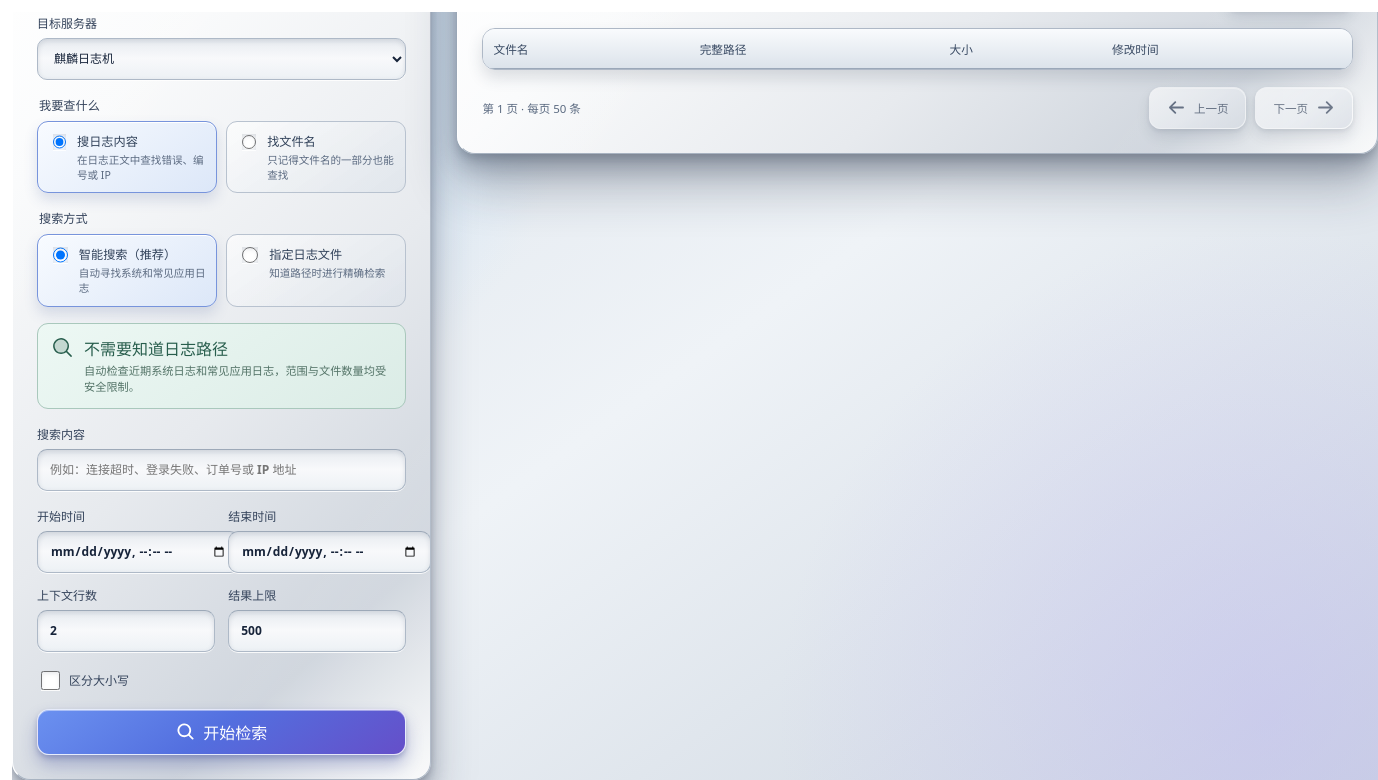
Test: LogSearchPage › derives a completed result count from the final page when the backend summary has no number
This screenshot has width=1378, height=780.
(page scrolled)
Type "ERROR" into the field labelled "搜索内容" at (222, 470), box [37,448,406,490]
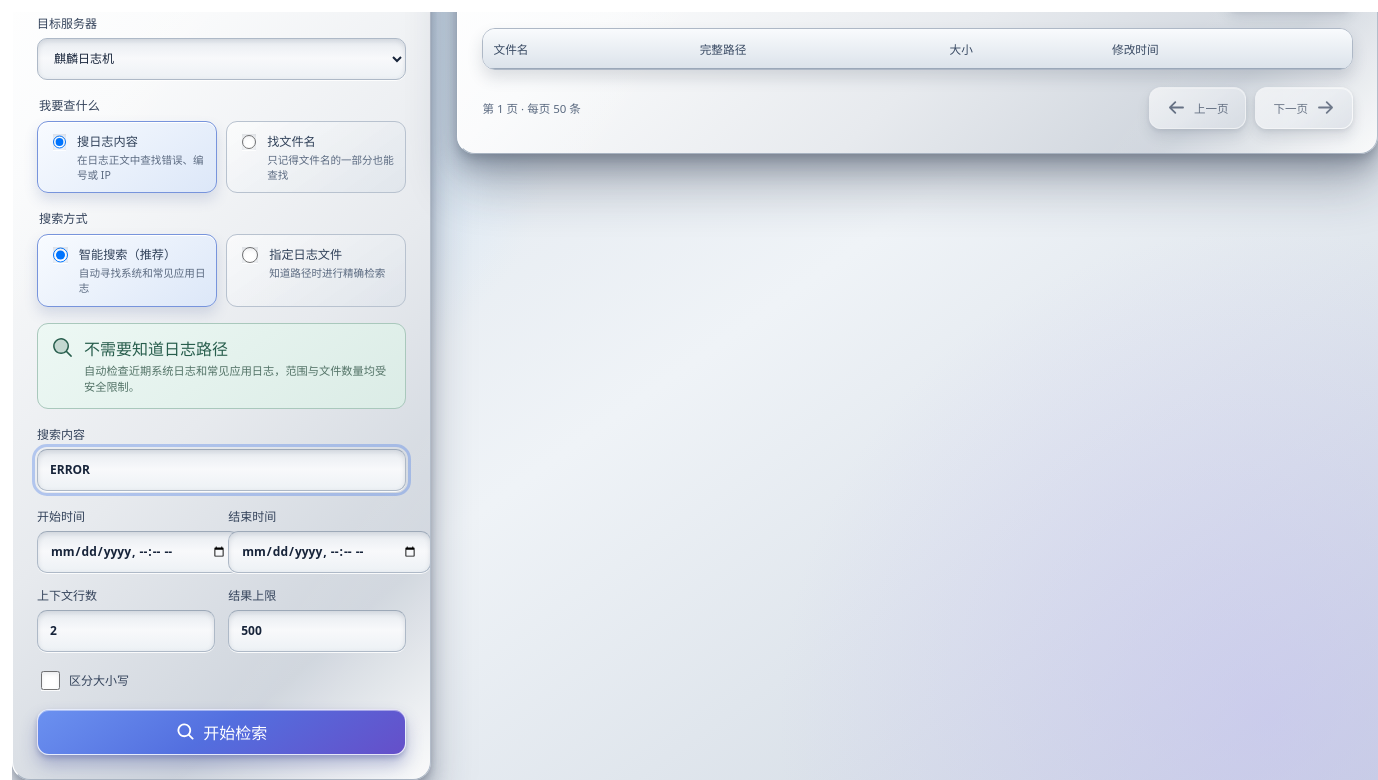
Click the button "开始检索" at (222, 732), box [37,708,406,754]
(page scrolled)
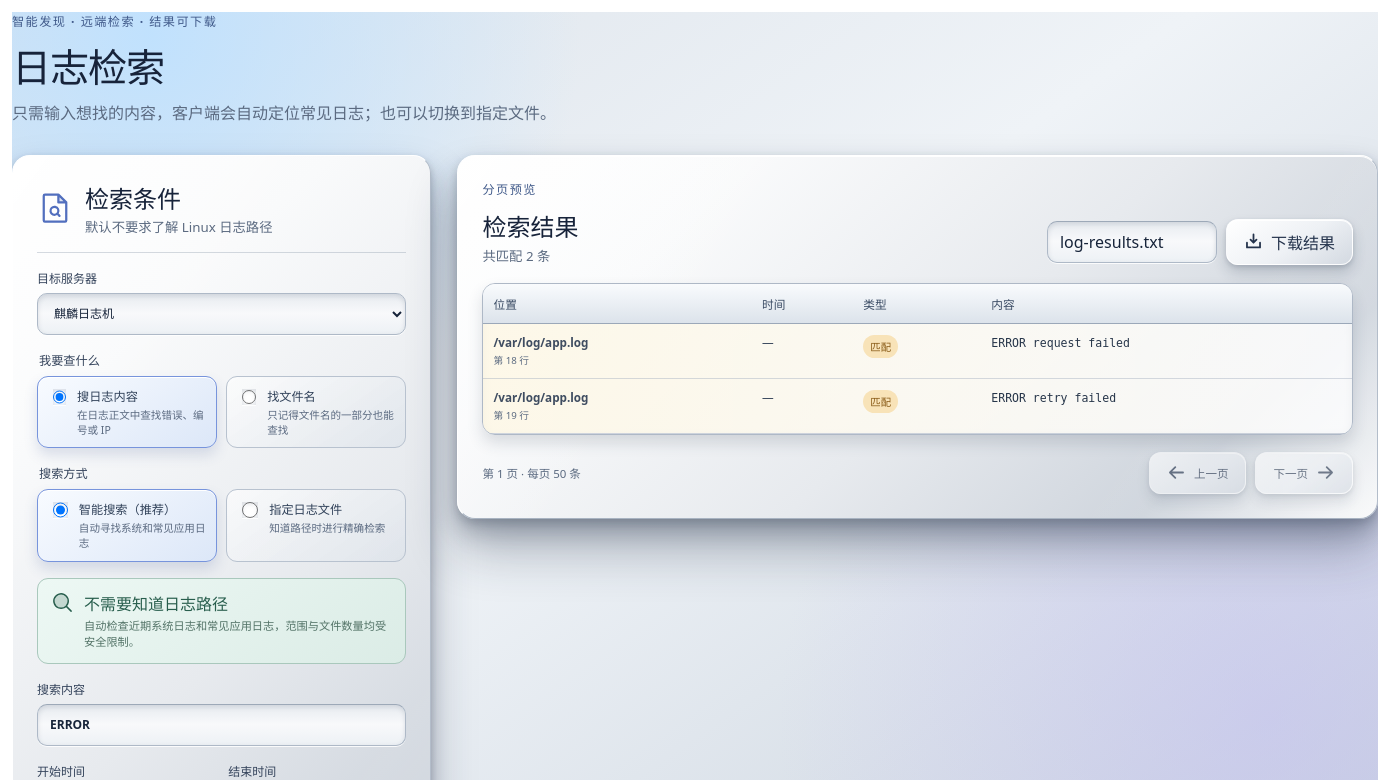
Expected: the text "共匹配 2 条" is shown, [482,247,550,265]
